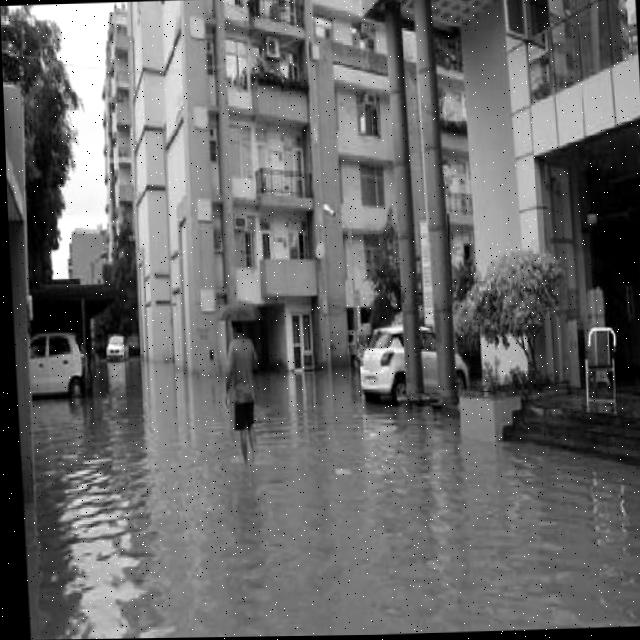civilian: (211, 309, 280, 473)
